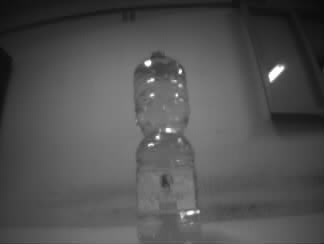Bottle: (131, 49, 201, 243)
